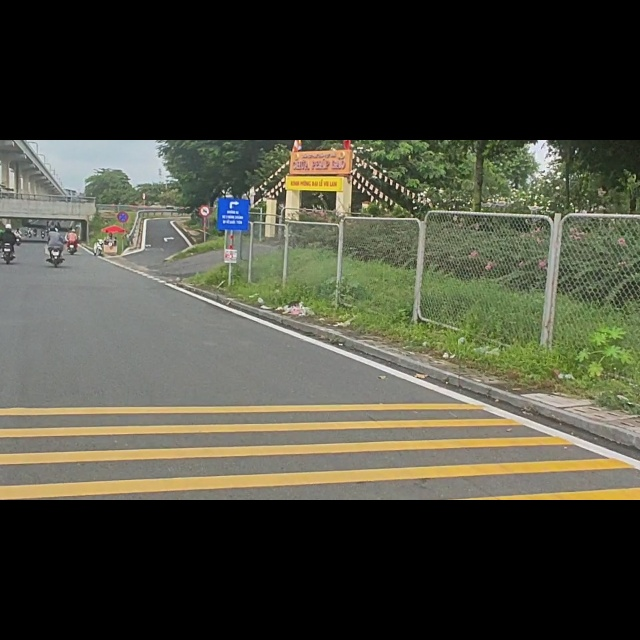bien_cam: (199, 115, 211, 137), (117, 127, 129, 147)
